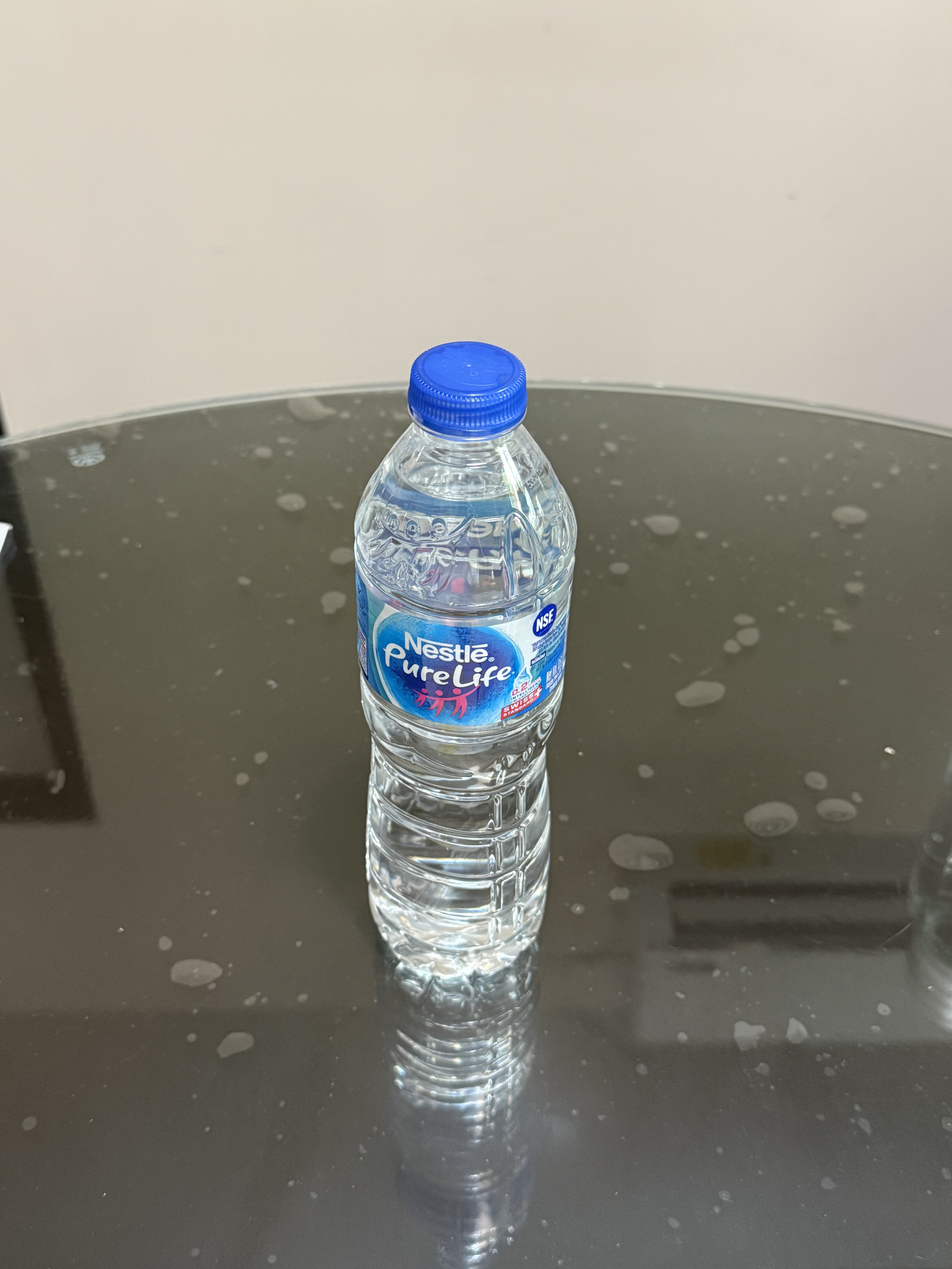closed_cap: (405, 338, 529, 438)
